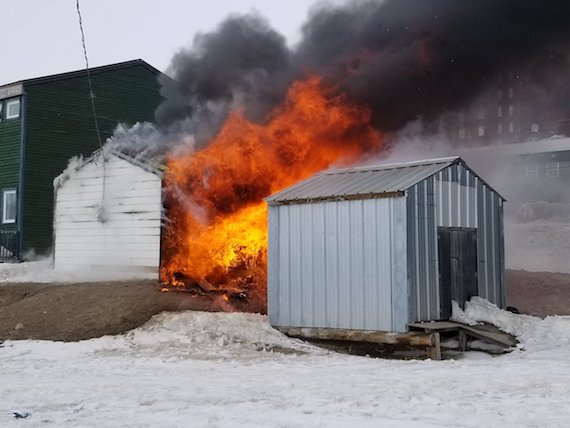fire: (168, 162, 265, 291), (224, 119, 344, 168)
smoke: (320, 2, 547, 98), (162, 34, 280, 111)
